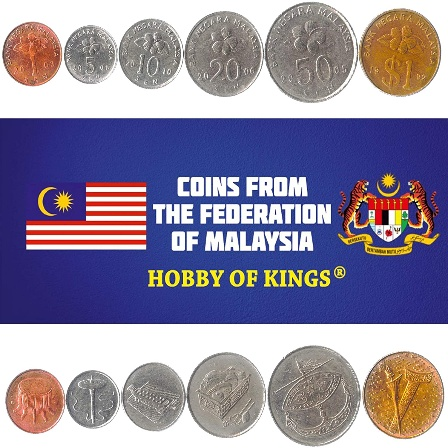10: (119, 18, 185, 90), (121, 362, 186, 432)
1c: (5, 367, 66, 434), (2, 21, 63, 87)
1r: (360, 7, 441, 97), (363, 351, 444, 440)
20: (186, 352, 267, 439), (185, 10, 264, 96)
5: (64, 25, 118, 85), (66, 370, 121, 428)
50: (265, 1, 358, 103), (268, 345, 361, 446)
